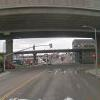Bridge: (4, 3, 97, 56)
